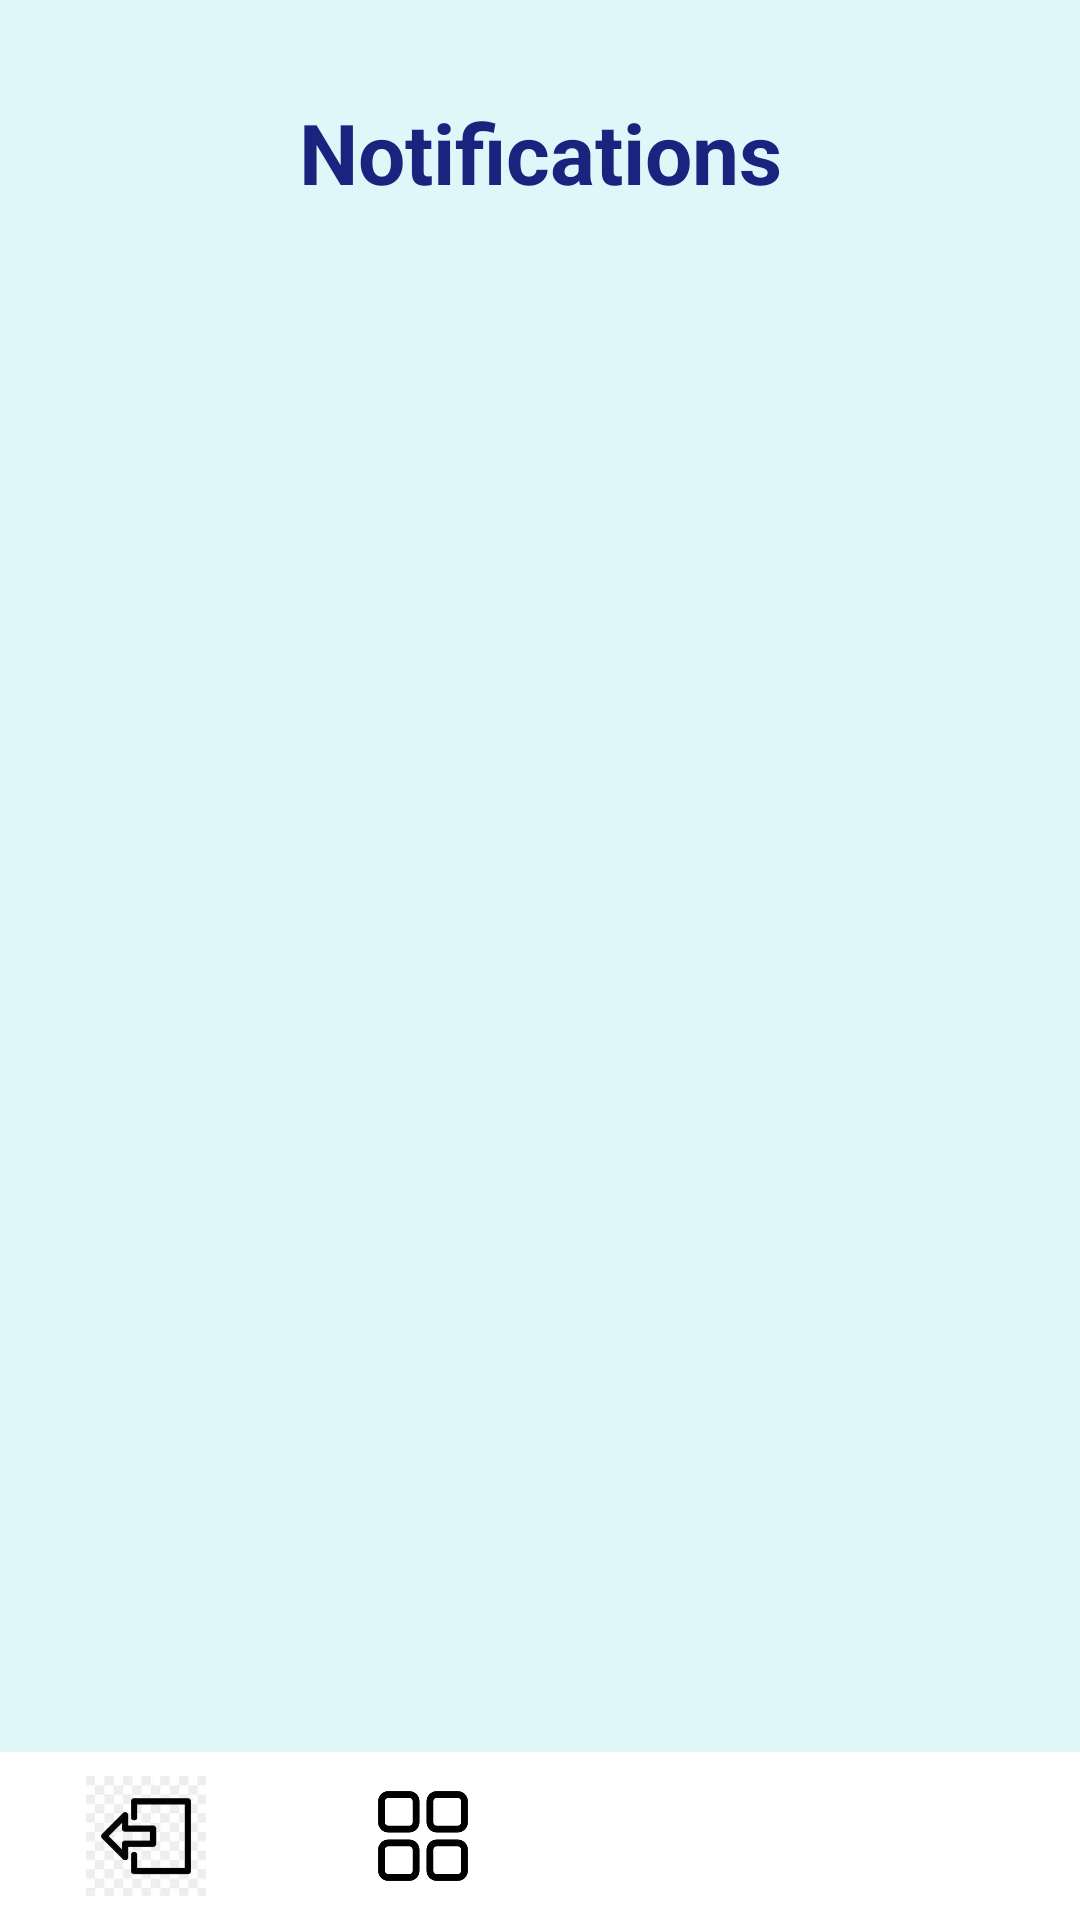

Named icons in this screenshot (1080 x 1920) and their bounding boxes, (x1,y1,x2,y2):
Home: (378,1791,468,1881)
